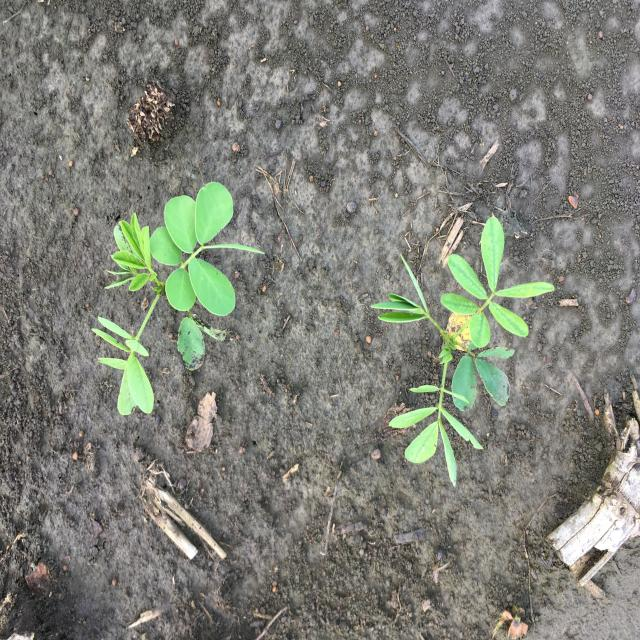Sicklepod: (367, 215, 556, 492), (90, 180, 268, 420)
